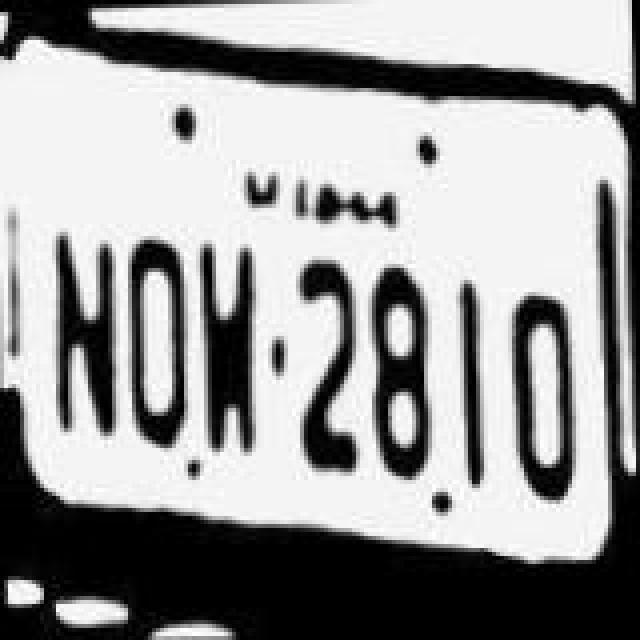1: (446, 258, 498, 510)
2: (284, 244, 364, 520)
8: (360, 242, 440, 518)
N: (34, 198, 122, 466)
O: (496, 256, 576, 520), (112, 200, 188, 460)
W: (188, 220, 264, 456)
